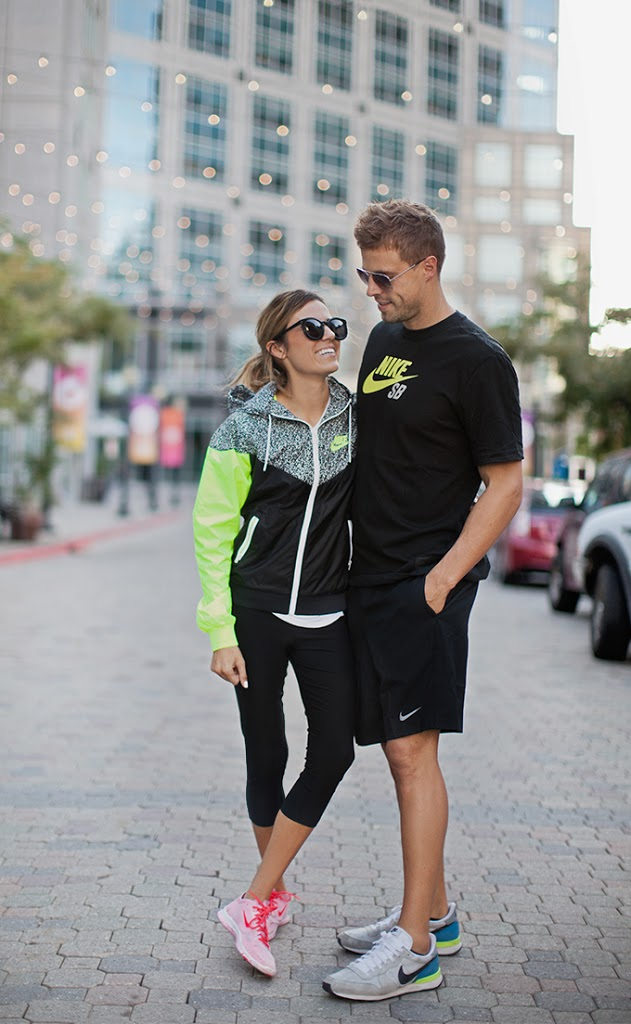Person: (354, 201, 521, 1000), (190, 289, 360, 973)
